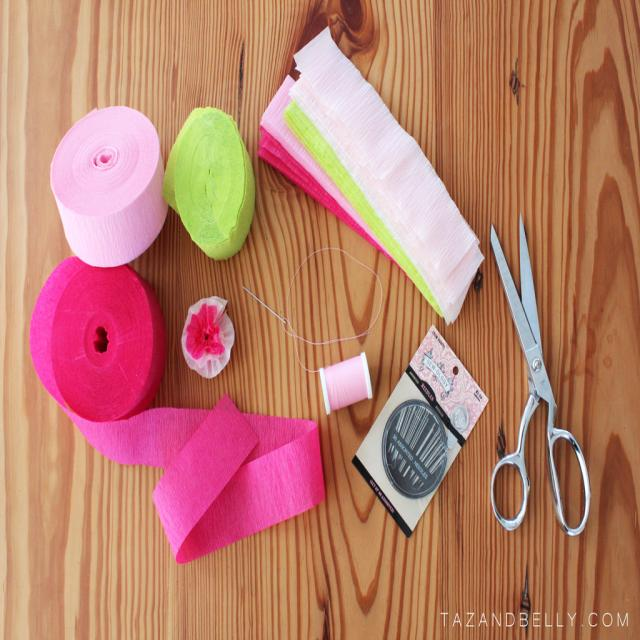scissors: (488, 211, 590, 536)
